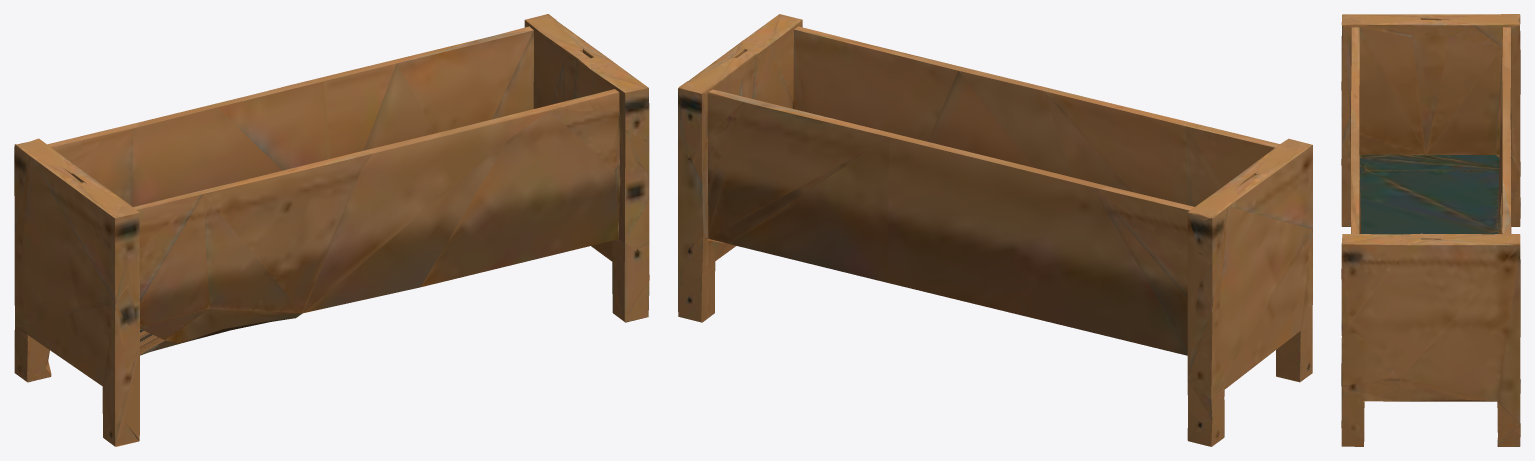
Rendered from trough.glb.
3 views of the same model, side by side, from view 1: azimuth 30°, elevation 25°; view 2: azimuth 150°, elevation 25°; view 3: azimuth 270°, elevation 25° (orthographic). The views are drawn at different scales.
Bounding box in the file's own units: 1.9 × 0.7815 × 0.6249.
Materials: 1 (1 with a texture image).
